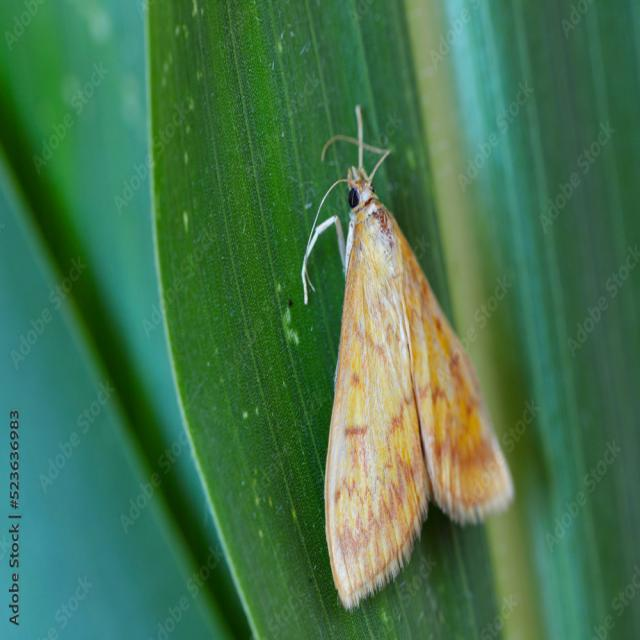cornborer-Adult-: (288, 97, 521, 618)
